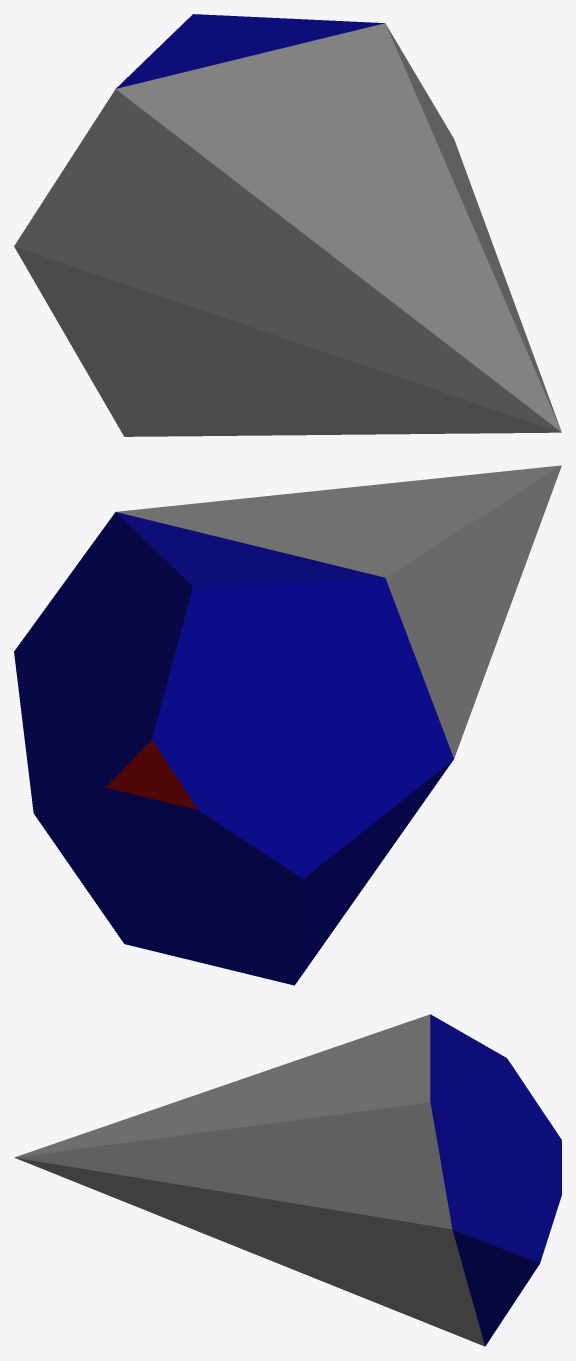
Rendered from boa.obj.
3 views of the same model, one above another, from view 1: azimuth 30°, elevation 25°; view 2: azimuth 150°, elevation 25°; view 3: azimuth 270°, elevation 25° (orthographic). The views are drawn at different scales.
Parts seen in each view (by area): view 1: boa; view 2: boa; view 3: boa.
Boxes of the visible parts, <box> form: boa: <box>14,14,561,436</box>; boa: <box>14,465,561,985</box>; boa: <box>14,1014,561,1346</box>.
Size of the model in its own units: 124 by 105 by 200.
